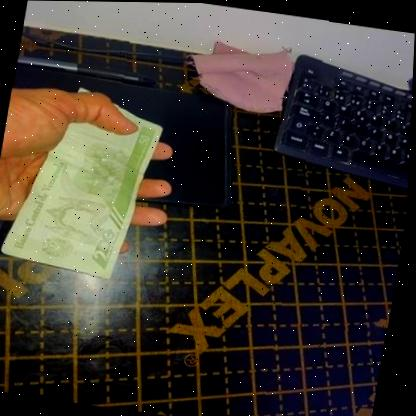fifty-back-vef: (0, 79, 169, 282)
